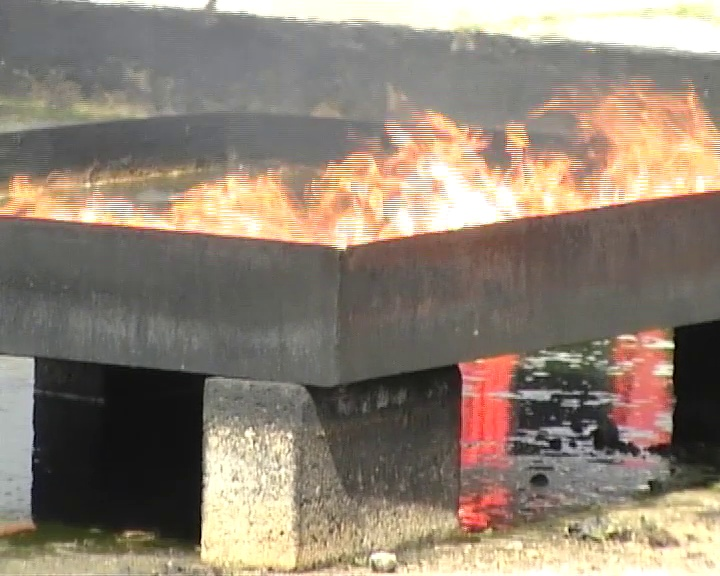fire: (3, 81, 720, 246)
